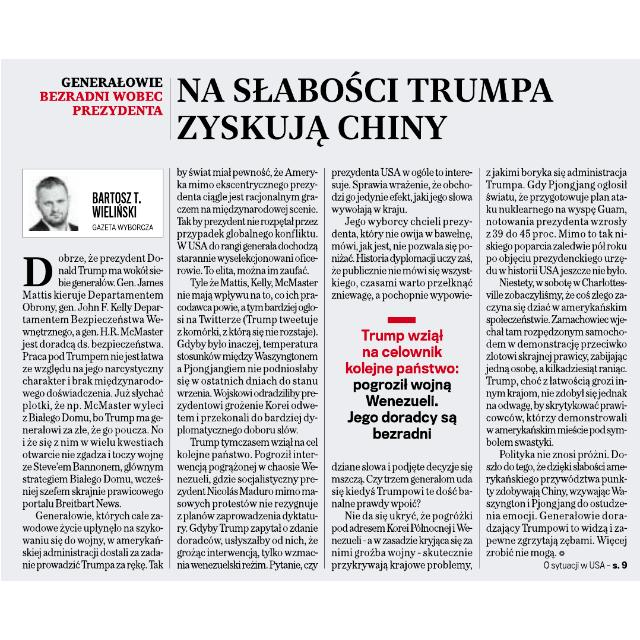author: (86, 186, 148, 220)
body: (174, 164, 322, 572), (482, 165, 632, 559), (18, 245, 168, 573), (328, 166, 477, 304), (338, 310, 466, 450), (328, 460, 476, 572)
title: (34, 66, 558, 148)
